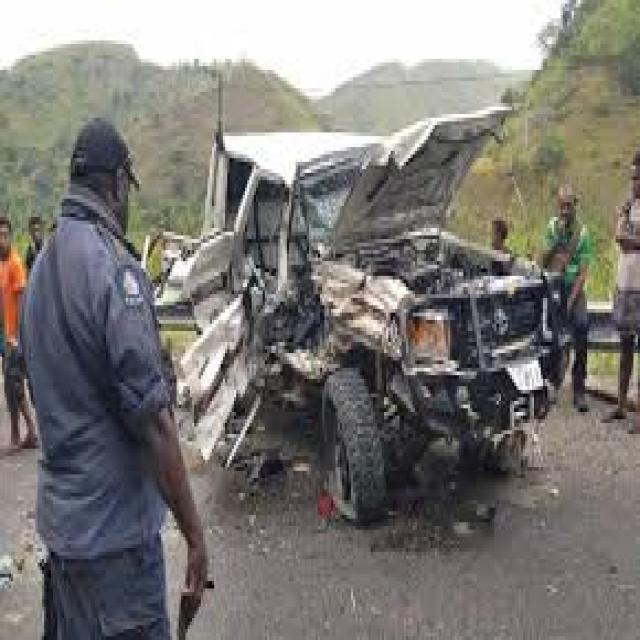accident: (165, 110, 568, 546)
